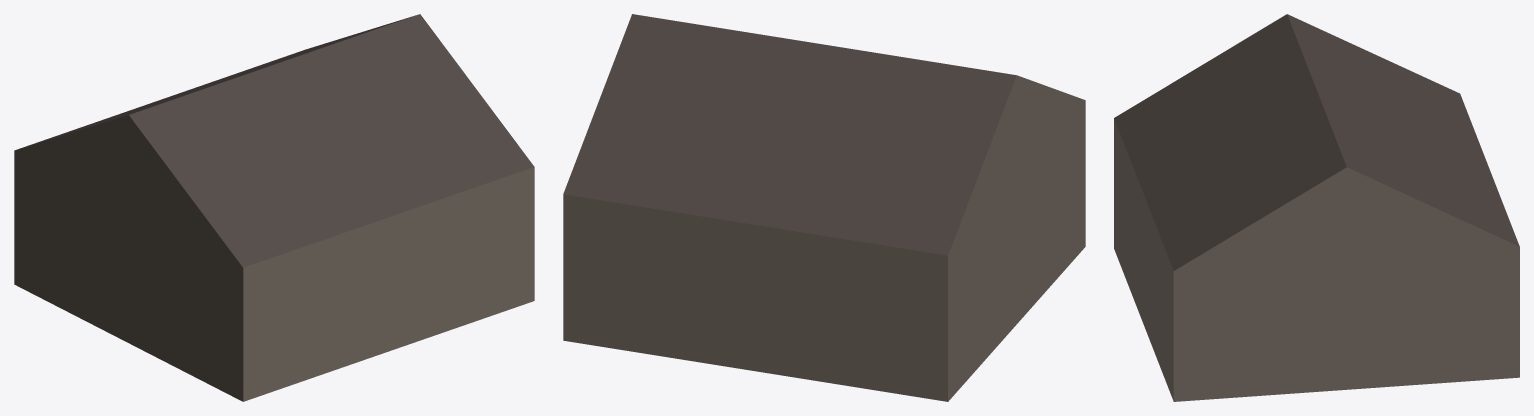
3 renders of one model, left to right at view 1: azimuth 30°, elevation 25°; view 2: azimuth 150°, elevation 25°; view 3: azimuth 270°, elevation 25°, orthographic. The views are drawn at different scales.
Parts seen in each view (by area): view 1: HP-w479863108; view 2: HP-w479863108; view 3: HP-w479863108.
Boxes of the visible parts, box(x1,y1,x2,y2) form: HP-w479863108: box(14, 14, 534, 401); HP-w479863108: box(563, 14, 1085, 401); HP-w479863108: box(1114, 14, 1519, 401).
Bounding box in the file's own units: 17.48 × 10.21 × 16.87.
